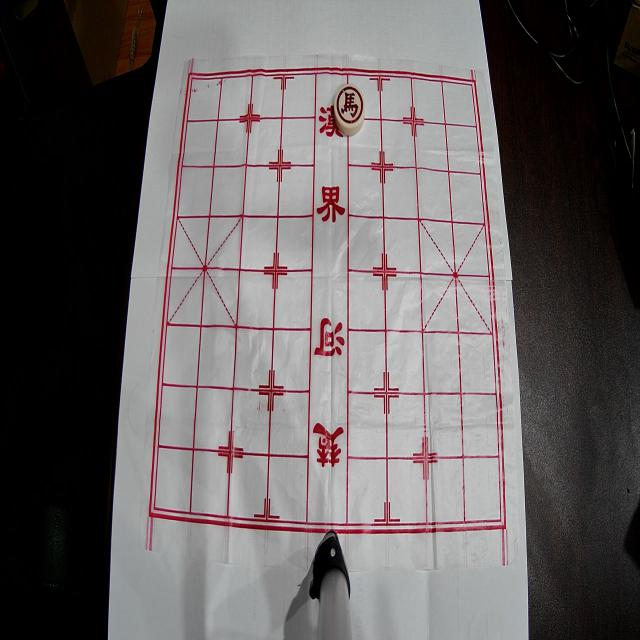red-horse: (334, 84, 365, 136)
